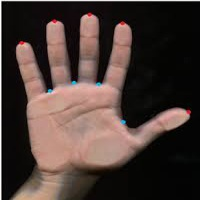ring: (40, 16, 74, 98)
